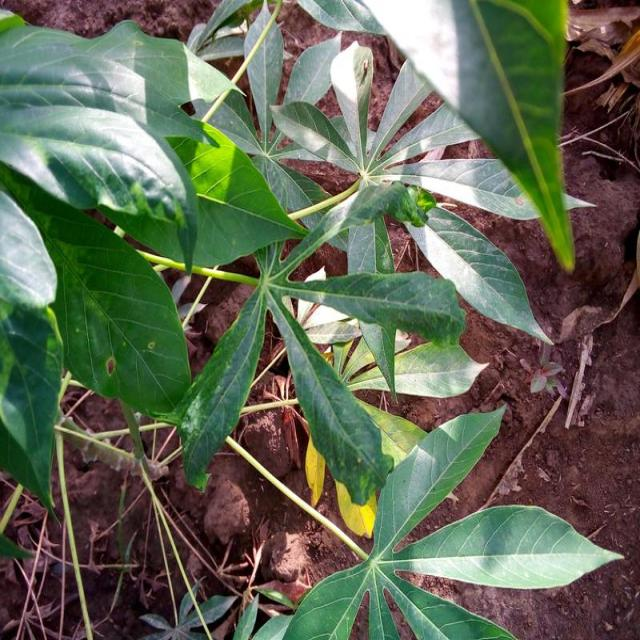cassava leaf: (278, 401, 624, 638), (363, 0, 587, 274), (15, 185, 192, 419)
